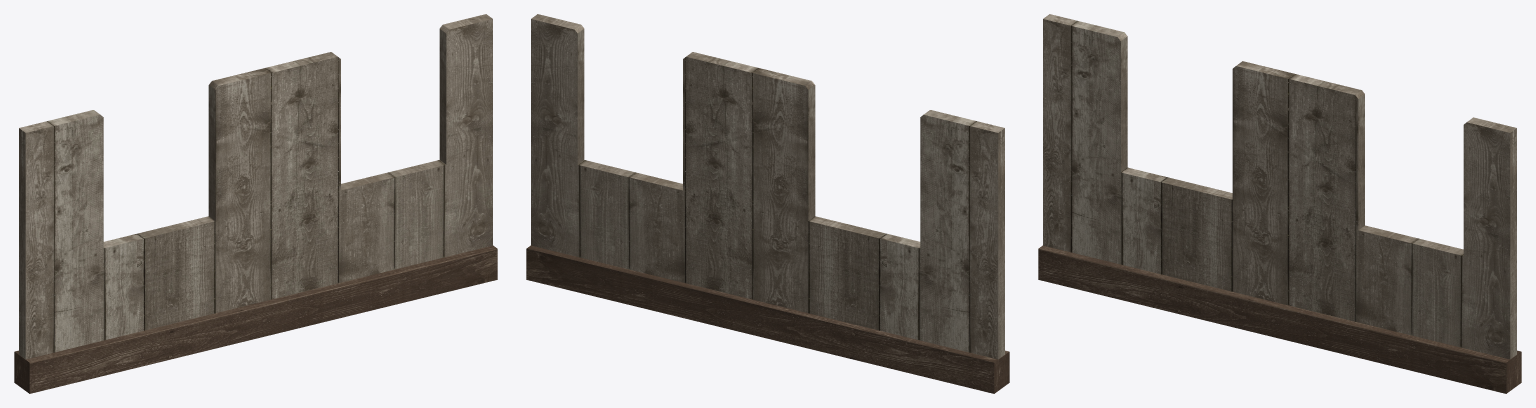
File: Wooden_Parapet.dae
The picture shows the model from 3 angles, left to right: view 1: azimuth 30°, elevation 25°; view 2: azimuth 150°, elevation 25°; view 3: azimuth 330°, elevation 25°; orthographic projection.
Parts seen in each view (by area): view 1: WoodenParapet1; view 2: WoodenParapet1; view 3: WoodenParapet1.
Boxes of the visible parts, x1,y1,x2,y2 form: WoodenParapet1: [14, 14, 497, 393]; WoodenParapet1: [526, 14, 1009, 393]; WoodenParapet1: [1038, 14, 1521, 393].
Size of the model in its own units: 4 by 2.11 by 0.2258.
Materials: 1 (1 with a texture image).
